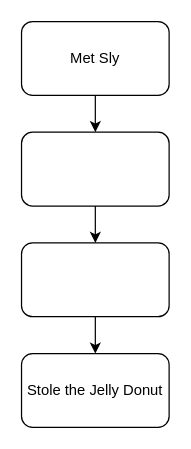
The diagram is 191 pixels wide and 449 high, and some of its shapes have lost their labels. The centre of each missing label's shape, as x and y in pixels:
"Completed Base Job" goes at point 94,168.
"Met Ghost" goes at point 94,279.
